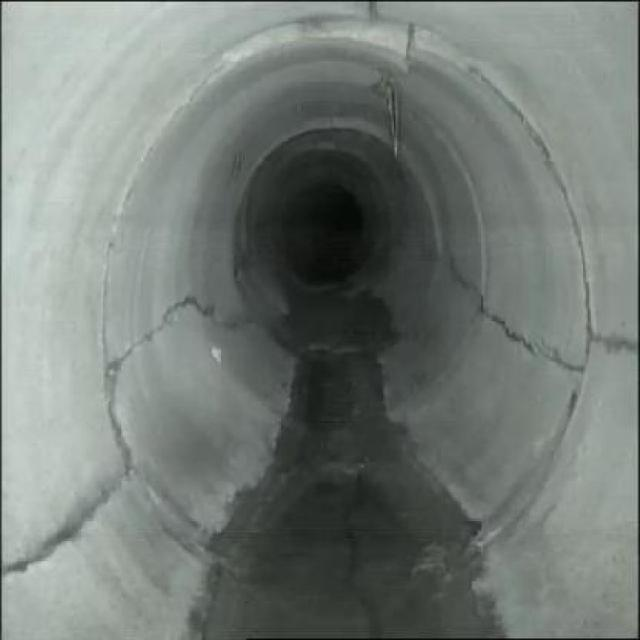Buckling: (376, 20, 424, 97)
Crack: (12, 460, 128, 589), (322, 496, 400, 632), (111, 291, 214, 363), (486, 308, 582, 377), (594, 317, 638, 369)
Joint offset: (226, 2, 366, 72), (430, 28, 536, 108)
